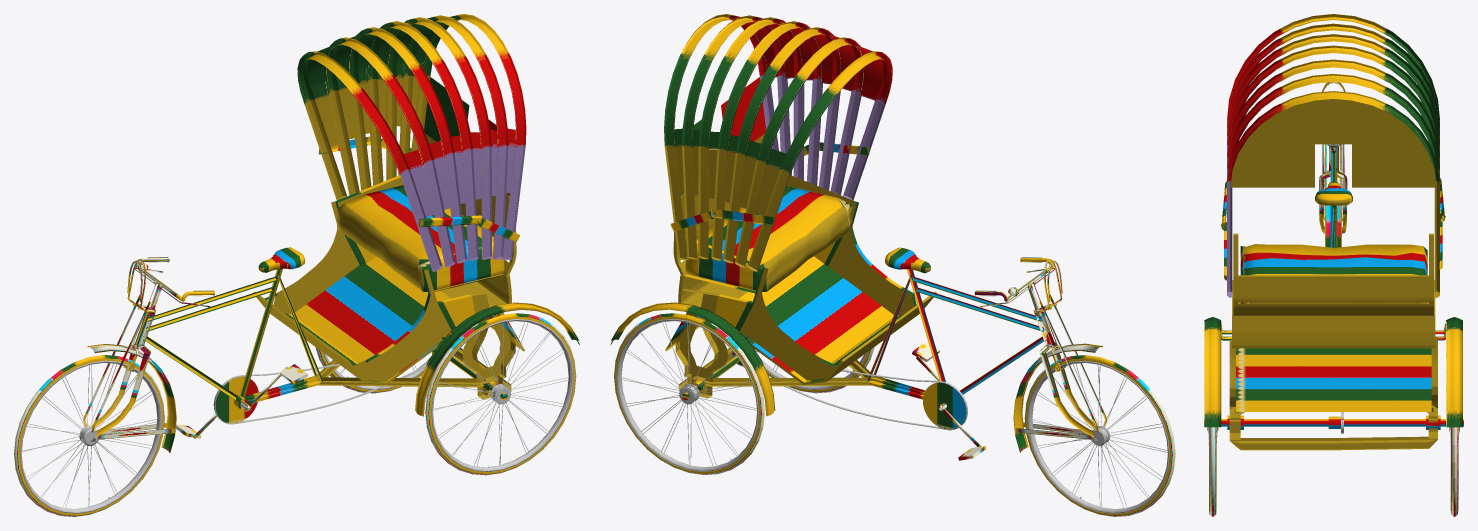
The model's file is rickshaw.glb.
3 renders of one model, left to right at view 1: azimuth 30°, elevation 25°; view 2: azimuth 150°, elevation 25°; view 3: azimuth 270°, elevation 25°, orthographic. The views are drawn at different scales.
Parts seen in each view (by area): view 1: seat, break, wheel_spoke_back_left, wheel_spoke_front, tire_back_left, tire_front, chain; view 2: seat, break, wheel_spoke_back_right, wheel_spoke_front, tire_back_right, tire_front, chain; view 3: seat, break, tire_back_left, tire_back_right.
Boxes of the visible parts, x1,y1,x2,y2 form: seat: (142,14,579,423); break: (83,257,214,452); wheel_spoke_back_left: (431,319,573,471); wheel_spoke_front: (20,360,162,513); tire_back_left: (425,313,576,475); tire_front: (14,355,164,516); chain: (213,364,425,424); seat: (610,14,1046,429); break: (974,257,1106,452); wheel_spoke_back_right: (616,319,758,471); wheel_spoke_front: (1027,360,1169,513); tire_back_right: (614,313,764,474); tire_front: (1024,355,1175,516); chain: (731,349,967,430); seat: (1204,14,1463,450); break: (1319,82,1347,247); tire_back_left: (1209,427,1216,516); tire_back_right: (1451,427,1457,516).
Size of the model in its own units: 5.38 by 4.16 by 2.2.
Materials: 3 (2 with a texture image).
